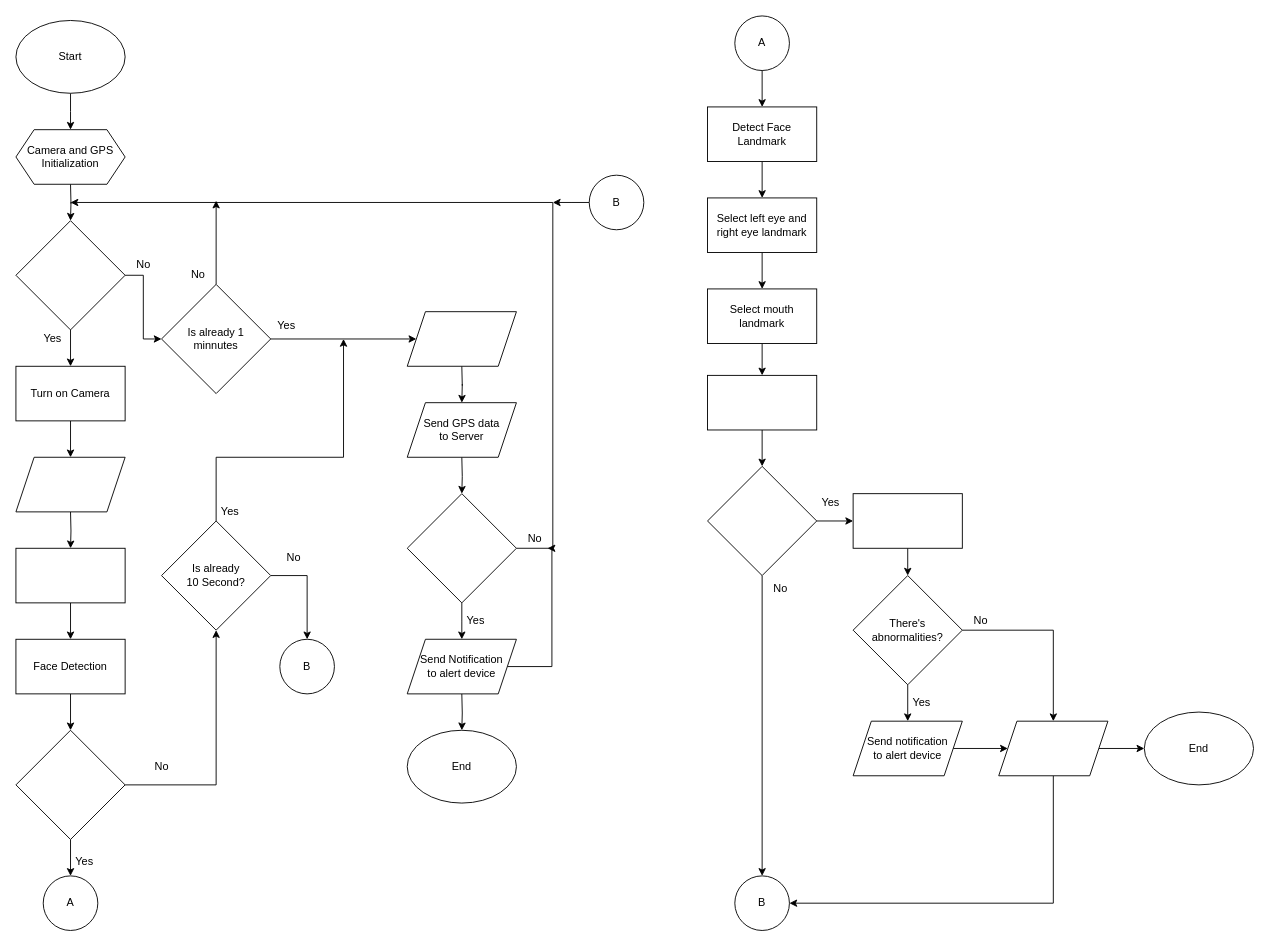
Some shapes in this 1269 by 946 pixel diagram are drawn without their labels. Here are the shapes that lost their labels. From the top down, the box of each, then its label:
(15, 220, 125, 330): Ignition Sensor is true?
(406, 311, 516, 366): Get GPS Data
(707, 374, 817, 430): Detect blink eyes and yawn
(15, 456, 125, 512): Capture driver face picture
(707, 465, 817, 576): is there any blink or yawn?
(852, 493, 962, 548): Compare to previous data
(406, 493, 516, 603): Already hit threshold?
(15, 547, 125, 603): Convert to Grayscale
(998, 720, 1108, 776): Send GPS and camera data to server
(15, 729, 125, 839): There is face?
